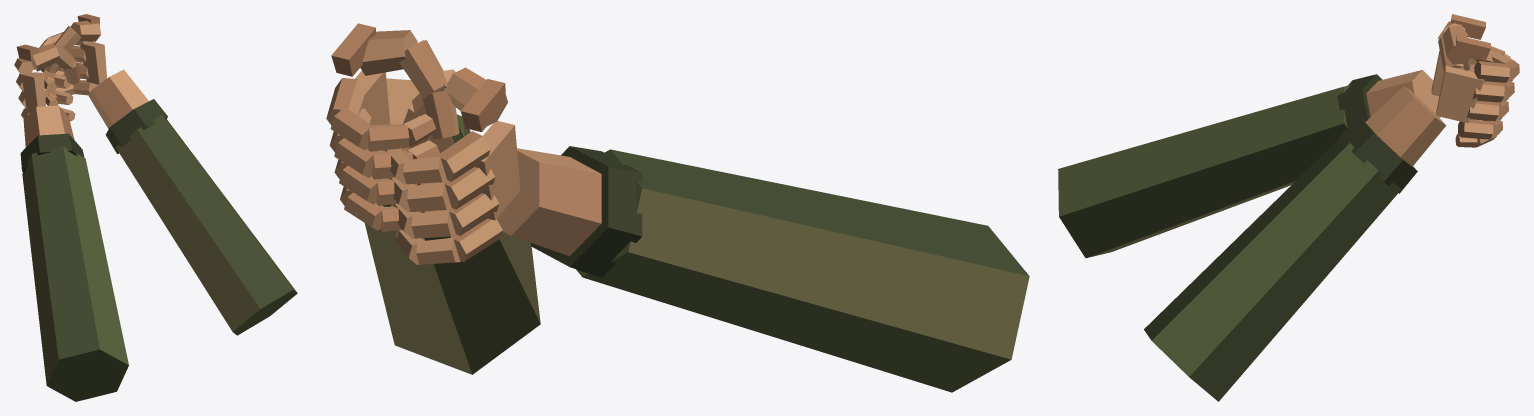
Rendered from maos_wf_revolver.glb.
3 views of the same model, side by side, from view 1: azimuth 30°, elevation 25°; view 2: azimuth 150°, elevation 25°; view 3: azimuth 270°, elevation 25° (orthographic). The views are drawn at different scales.
Parts seen in each view (by area): view 1: MaosFP; view 2: MaosFP; view 3: MaosFP.
Boxes of the visible parts, x1=… form: MaosFP: x1=14, y1=14, x2=297, y2=401; MaosFP: x1=326, y1=23, x2=1029, y2=392; MaosFP: x1=1058, y1=14, x2=1519, y2=401.
Size of the model in its own units: 0.4271 by 0.3715 by 0.4784.
